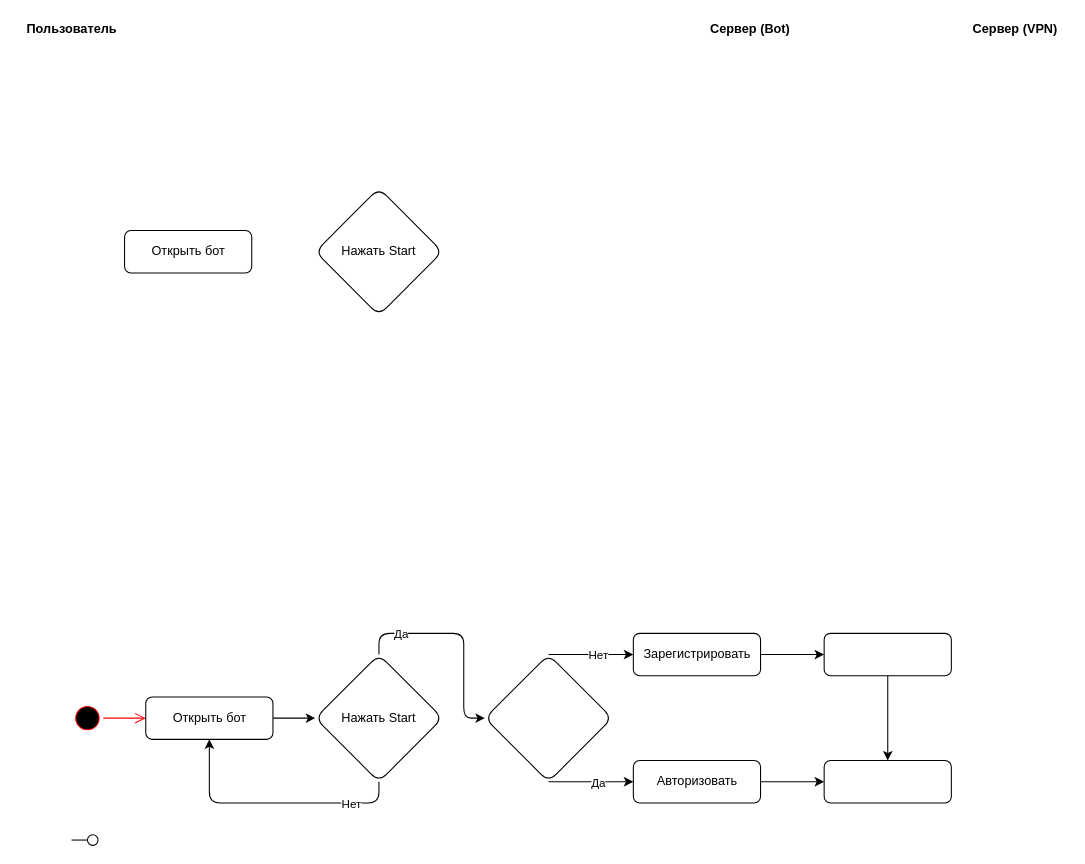
This 1085x864 diagram has some shape labels left out. The shapes that lost their labels are listed below. From the top down, each one's centre as x and y in pixels, then its label:
point 887,654: Внести ID пользователя в систему
point 548,717: Пользователь есть в системе
point 887,781: Отобразить список серверов
